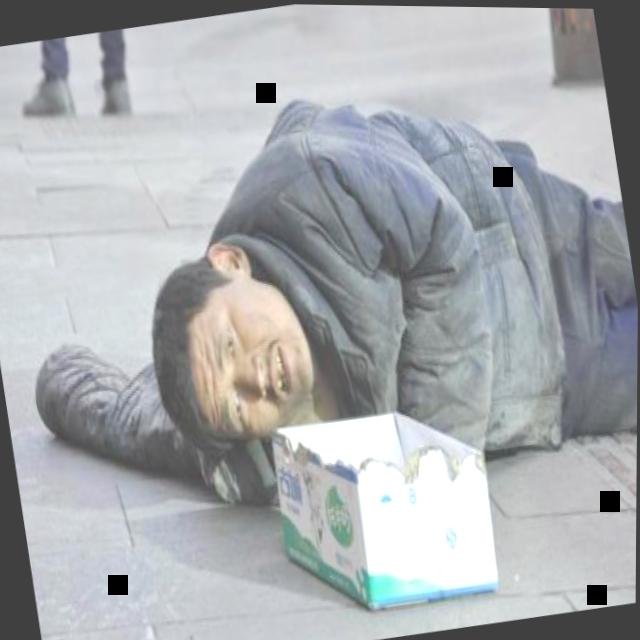Fall-Detected: (100, 20, 640, 546)
